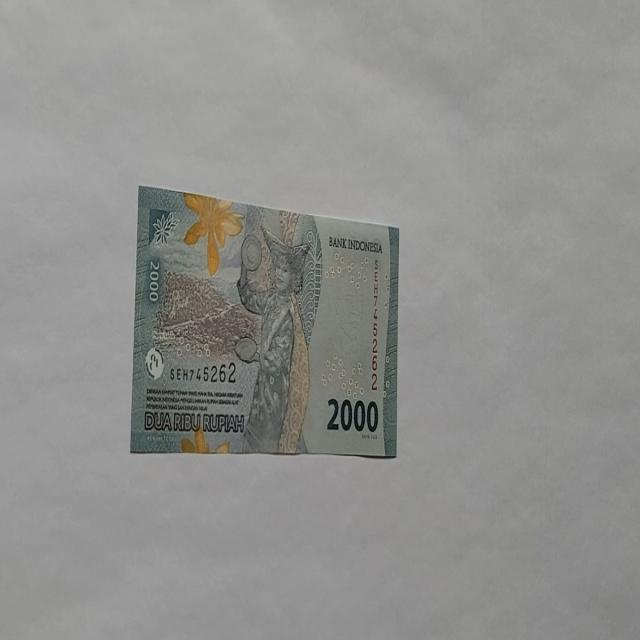dua ribu rupiah: (129, 185, 400, 459), (234, 224, 312, 453), (182, 190, 244, 278)
